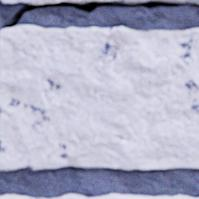brick: (0, 25, 198, 169), (0, 193, 198, 198), (0, 0, 109, 4), (160, 0, 198, 3), (117, 0, 148, 3)
crack: (2, 0, 198, 29)
